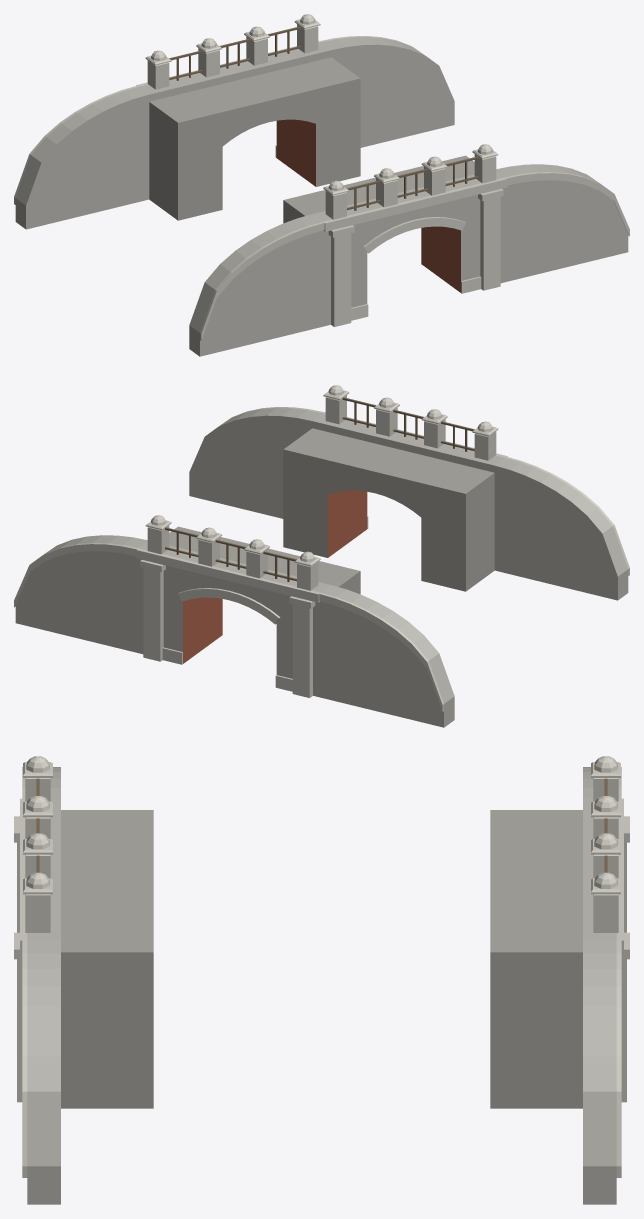
Rendered from nyc-dipway-arch.glb.
The picture shows the model from 3 angles, top to bottom: view 1: azimuth 30°, elevation 25°; view 2: azimuth 150°, elevation 25°; view 3: azimuth 270°, elevation 25°; orthographic projection. The views are drawn at different scales.
Visible parts, largest first — view 1: Dipway Arch; view 2: Dipway Arch; view 3: Dipway Arch.
Part boxes in pixels (x1,y1,x2,y2): Dipway Arch: [14, 14, 629, 356]; Dipway Arch: [14, 385, 629, 727]; Dipway Arch: [14, 756, 629, 1204].
Size of the model in its own units: 18.8 by 5.82 by 14.64.
